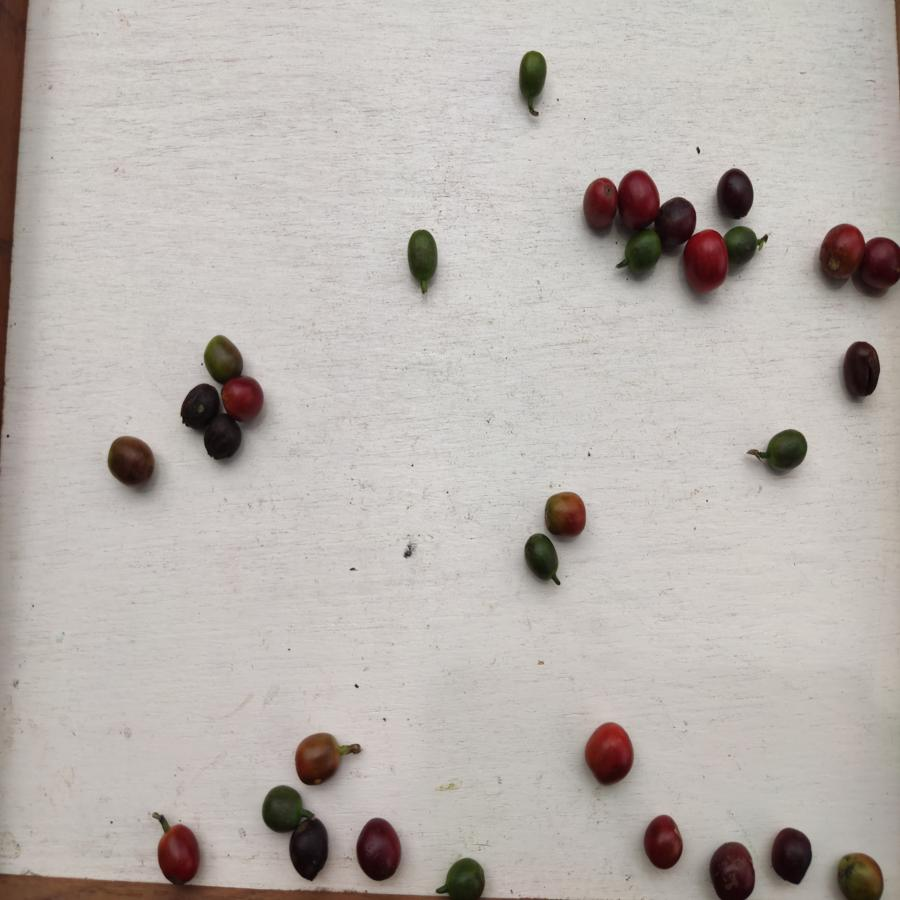Inmaduro: (405, 229, 442, 287), (523, 533, 563, 584), (443, 857, 490, 899), (517, 50, 552, 104), (766, 429, 808, 472), (622, 229, 660, 274), (262, 784, 301, 822), (727, 227, 763, 264)
Maduro: (583, 720, 636, 785), (813, 222, 864, 284), (157, 823, 203, 884), (685, 232, 729, 291), (616, 166, 659, 222), (580, 175, 620, 232), (222, 378, 264, 422)
Pinton: (293, 730, 343, 786), (835, 849, 888, 900), (542, 488, 590, 539), (202, 333, 242, 375)
Sobremaduro: (354, 818, 404, 881), (709, 841, 757, 900), (768, 827, 813, 886), (289, 819, 330, 883), (642, 813, 685, 874), (107, 436, 159, 486), (840, 339, 881, 399), (859, 233, 900, 290), (716, 169, 757, 220), (200, 413, 242, 462), (657, 194, 699, 241), (178, 384, 220, 427)
